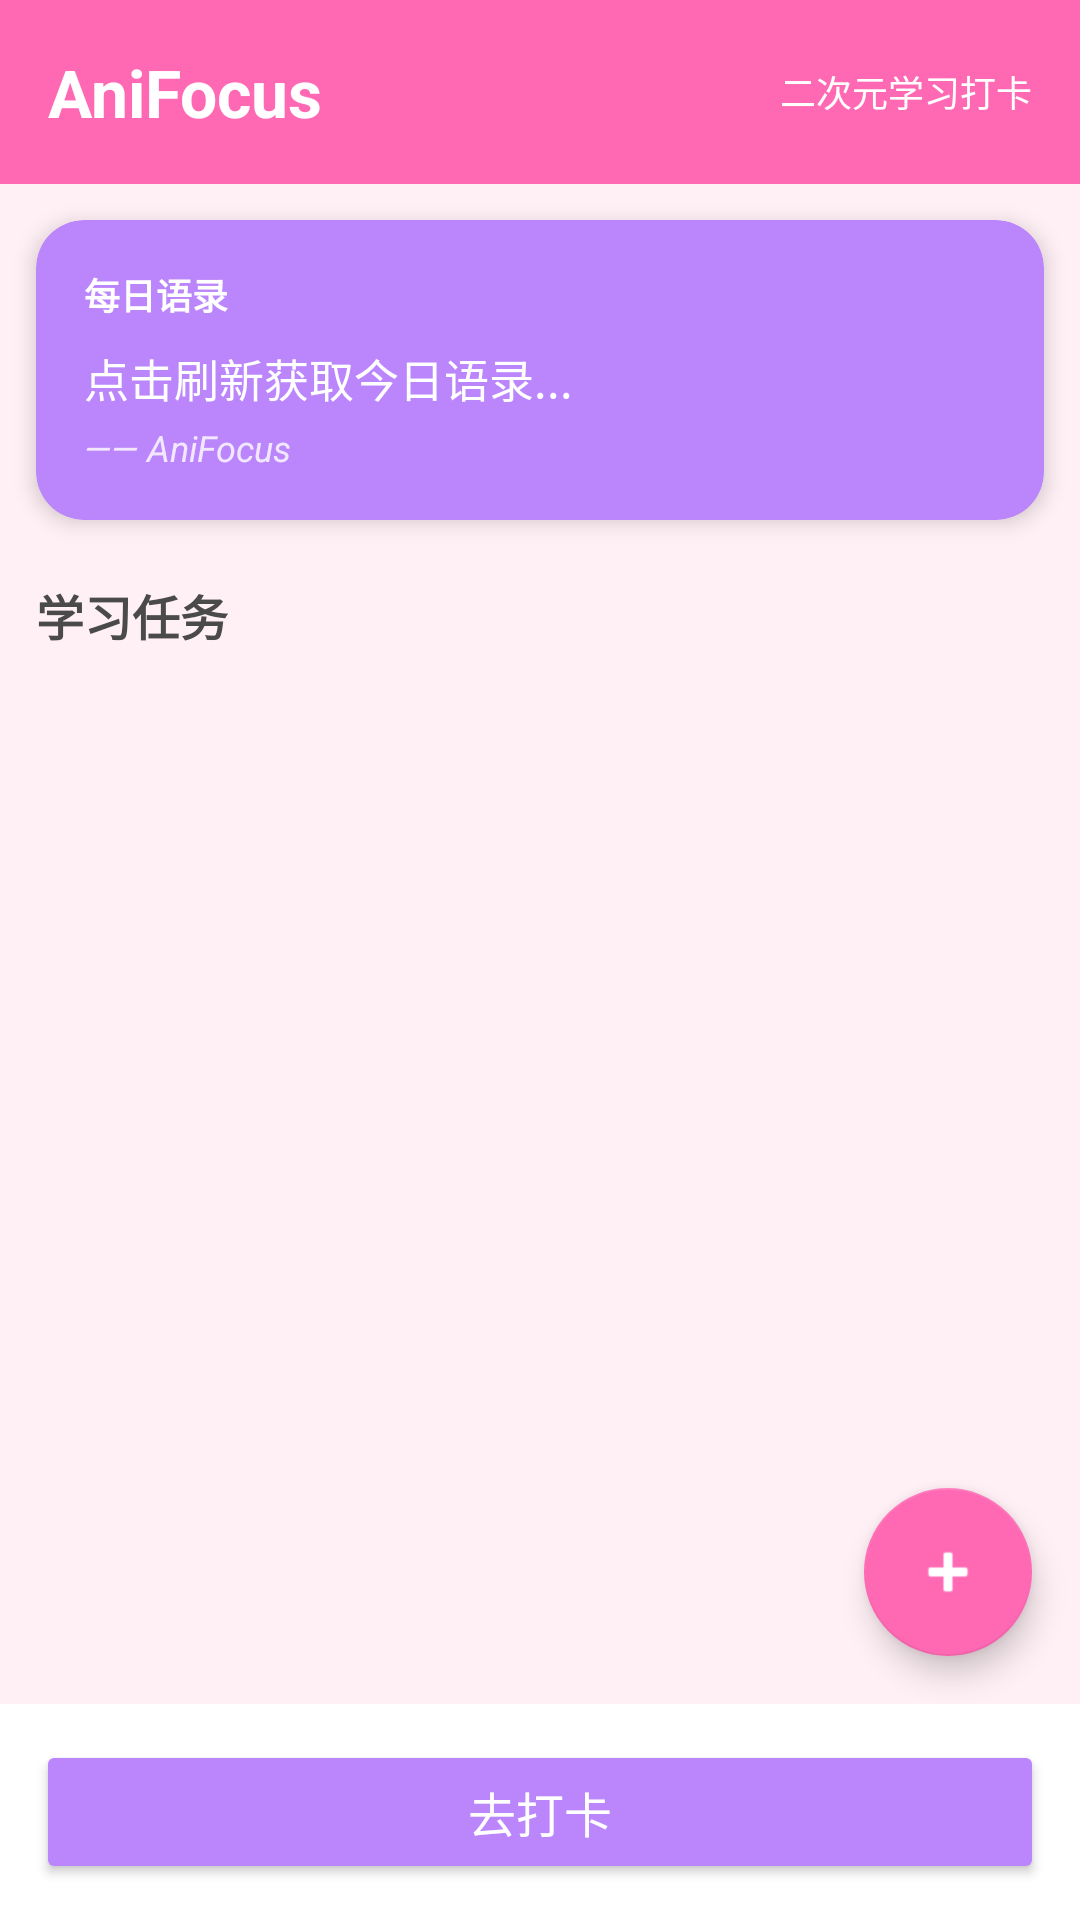

Icons on this 1080x1920 Android screen, each with its box as (x1, y1, x2, y2):
add: (864, 1488, 1032, 1656)
